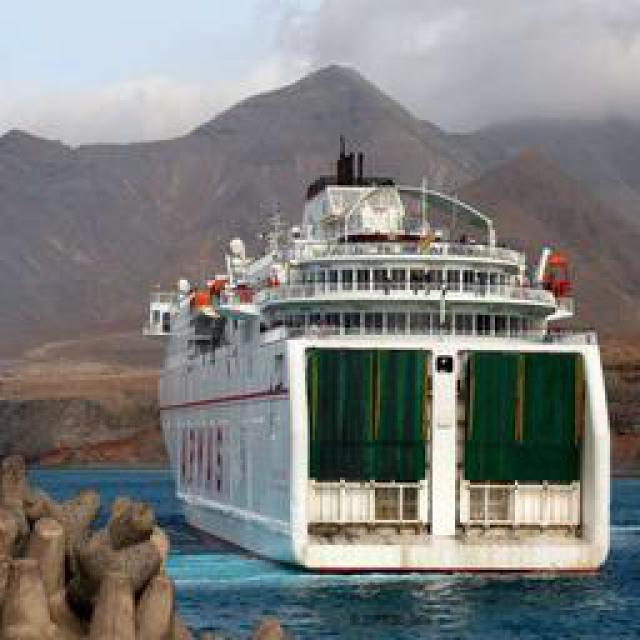Ship: (149, 169, 614, 579)
